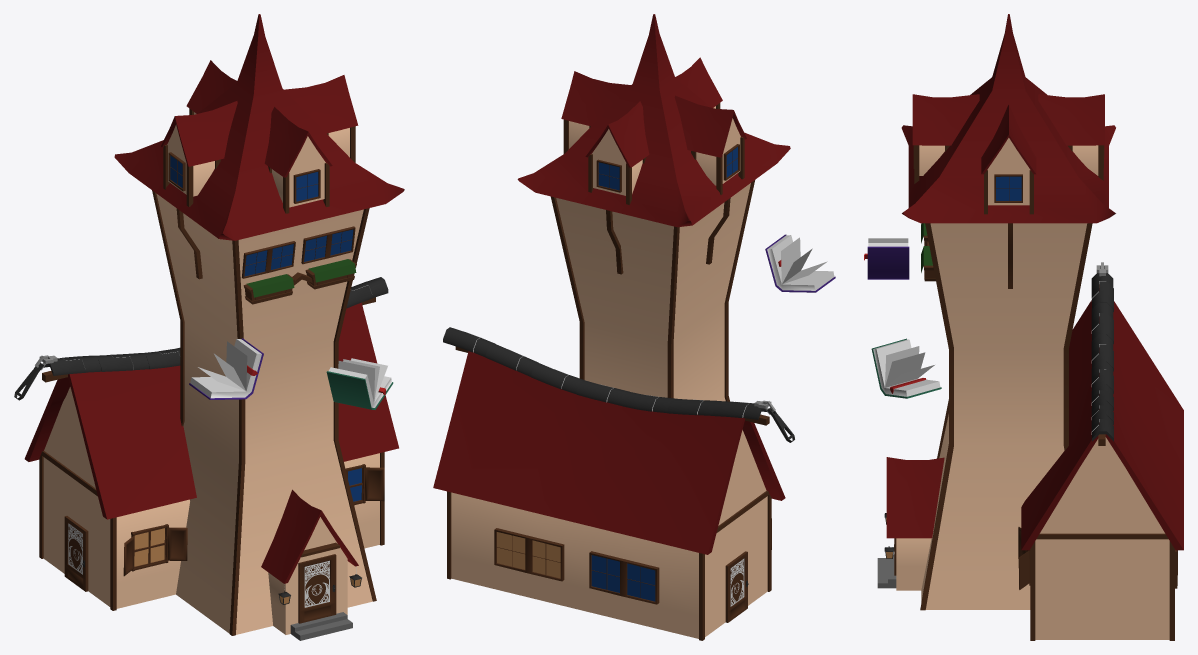
File: HouseBook.fbx
The picture shows the model from 3 angles, left to right: view 1: azimuth 30°, elevation 25°; view 2: azimuth 150°, elevation 25°; view 3: azimuth 270°, elevation 25°; orthographic projection. The views are drawn at different scales.
Visible parts, largest first — view 1: HouseBook, HouseBook.001, Book.2; view 2: HouseBook, HouseBook.001; view 3: HouseBook, Book.2, HouseBook.001.
Part boxes in pixels (bbox=[...]): HouseBook: bbox=[14, 14, 404, 640]; HouseBook.001: bbox=[189, 338, 263, 399]; Book.2: bbox=[326, 358, 393, 409]; HouseBook: bbox=[433, 14, 794, 640]; HouseBook.001: bbox=[765, 234, 835, 292]; HouseBook: bbox=[877, 14, 1183, 640]; Book.2: bbox=[871, 338, 941, 398]; HouseBook.001: bbox=[864, 238, 909, 279].
Size of the model in its own units: 1602 by 2381 by 1229.
